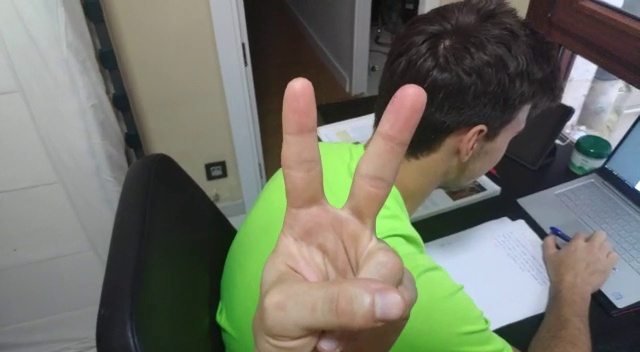Peace: (249, 75, 434, 347)
